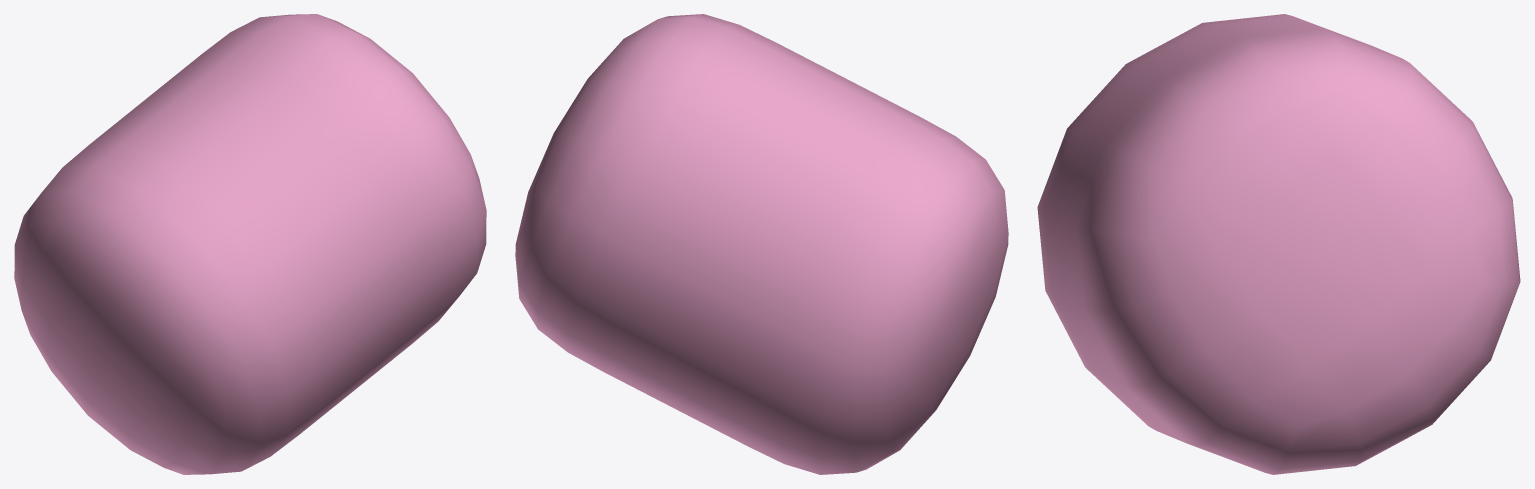
File: MarshmellowPink.fbx
The picture shows the model from 3 angles, left to right: view 1: azimuth 30°, elevation 25°; view 2: azimuth 150°, elevation 25°; view 3: azimuth 270°, elevation 25°; orthographic projection. The views are drawn at different scales.
Visible parts, largest first — view 1: Cube.044; view 2: Cube.044; view 3: Cube.044.
Part boxes in pixels (bbox=[...]): Cube.044: bbox=[14, 14, 486, 474]; Cube.044: bbox=[515, 14, 1008, 474]; Cube.044: bbox=[1037, 14, 1520, 474].
Size of the model in its own units: 31.14 by 28.41 by 26.14.
